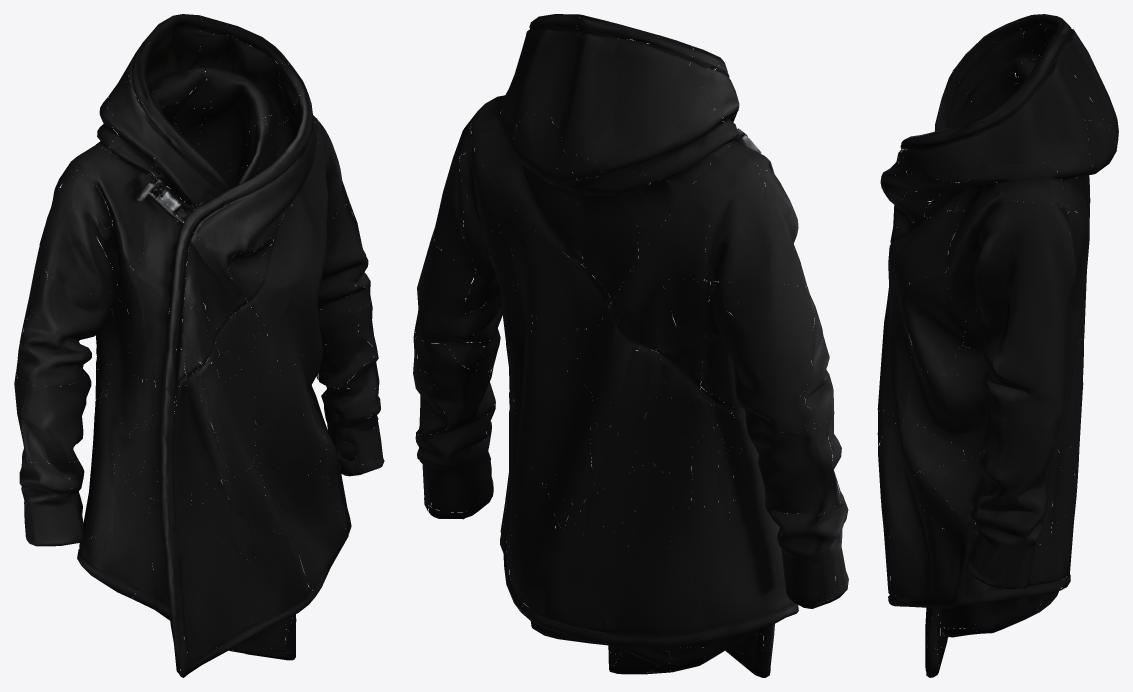
Rendered from DUNE-web-1K-draco.glb.
3 renders of one model, left to right at view 1: azimuth 30°, elevation 25°; view 2: azimuth 150°, elevation 25°; view 3: azimuth 270°, elevation 25°, orthographic. The views are drawn at different scales.
Parts seen in each view (by area): view 1: DUNE | Tripo optimized master; view 2: DUNE | Tripo optimized master; view 3: DUNE | Tripo optimized master.
Boxes of the visible parts, x1,y1,x2,y2 form: DUNE | Tripo optimized master: [14, 14, 384, 677]; DUNE | Tripo optimized master: [413, 14, 848, 677]; DUNE | Tripo optimized master: [877, 14, 1118, 677].
Size of the model in its own units: 0.6073 by 1 by 0.3489.
Materials: 1 (1 with a texture image).
